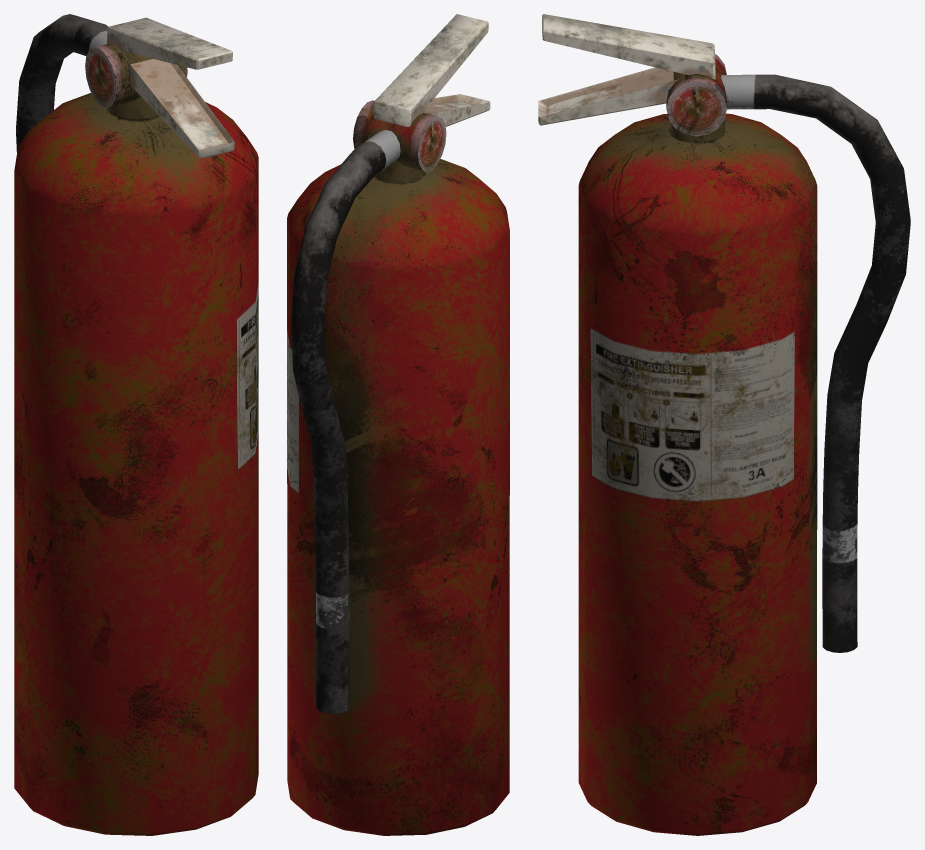
The model's file is FireExtinguisher01_2.FBX.
3 views of the same model, side by side, from view 1: azimuth 30°, elevation 25°; view 2: azimuth 150°, elevation 25°; view 3: azimuth 270°, elevation 25° (orthographic). The views are drawn at different scales.
Parts seen in each view (by area): view 1: FireExtinguisher01_2; view 2: FireExtinguisher01_2; view 3: FireExtinguisher01_2.
Part boxes in pixels (x1,y1,x2,y2): FireExtinguisher01_2: (14, 14, 258, 835); FireExtinguisher01_2: (287, 14, 509, 835); FireExtinguisher01_2: (538, 14, 910, 835).
Bounding box in the file's own units: 17.7 × 62.54 × 27.61.
